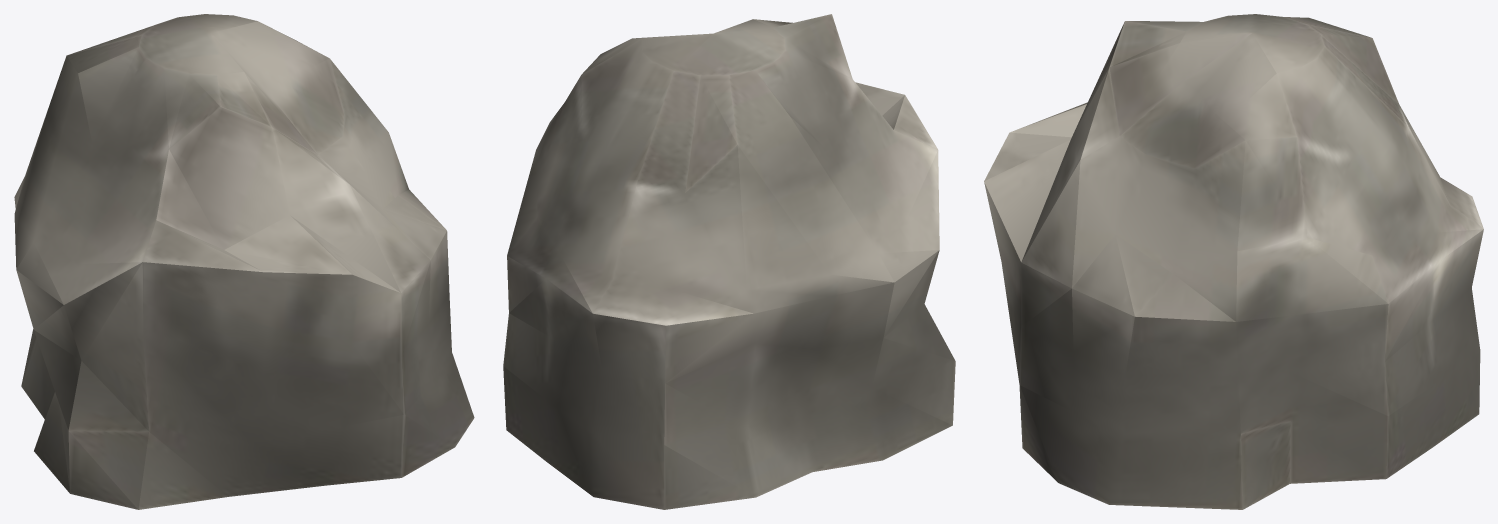
File: r32_erzpack_object_13.glb
3 views of the same model, side by side, from view 1: azimuth 30°, elevation 25°; view 2: azimuth 150°, elevation 25°; view 3: azimuth 270°, elevation 25° (orthographic).
Parts seen in each view (by area): view 1: erz_13; view 2: erz_13; view 3: erz_13.
Boxes of the visible parts, x1,y1,x2,y2 form: erz_13: [14, 14, 474, 509]; erz_13: [503, 14, 955, 509]; erz_13: [984, 14, 1483, 509].
Size of the model in its own units: 0.908 by 0.835 by 1.
Materials: 1 (1 with a texture image).
